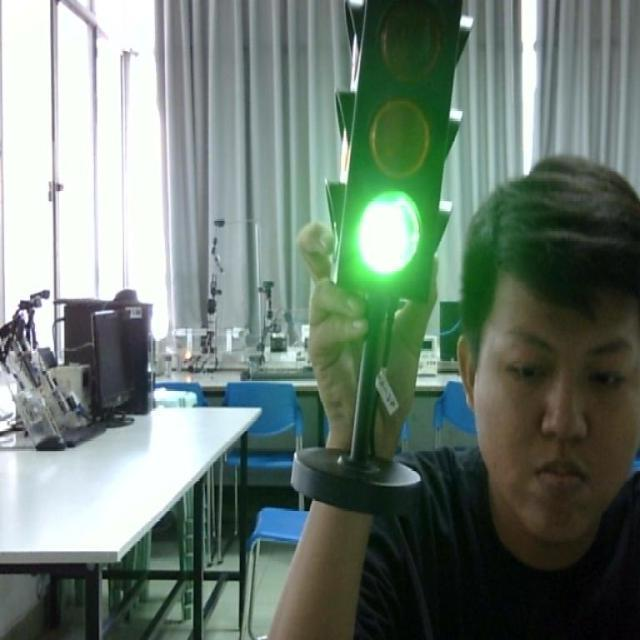green_light: (327, 0, 468, 297)
